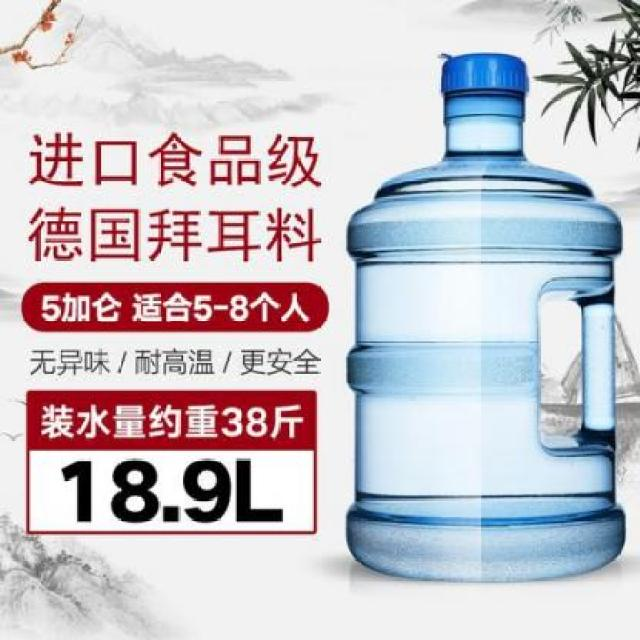coolerbottle: (340, 46, 632, 583)
